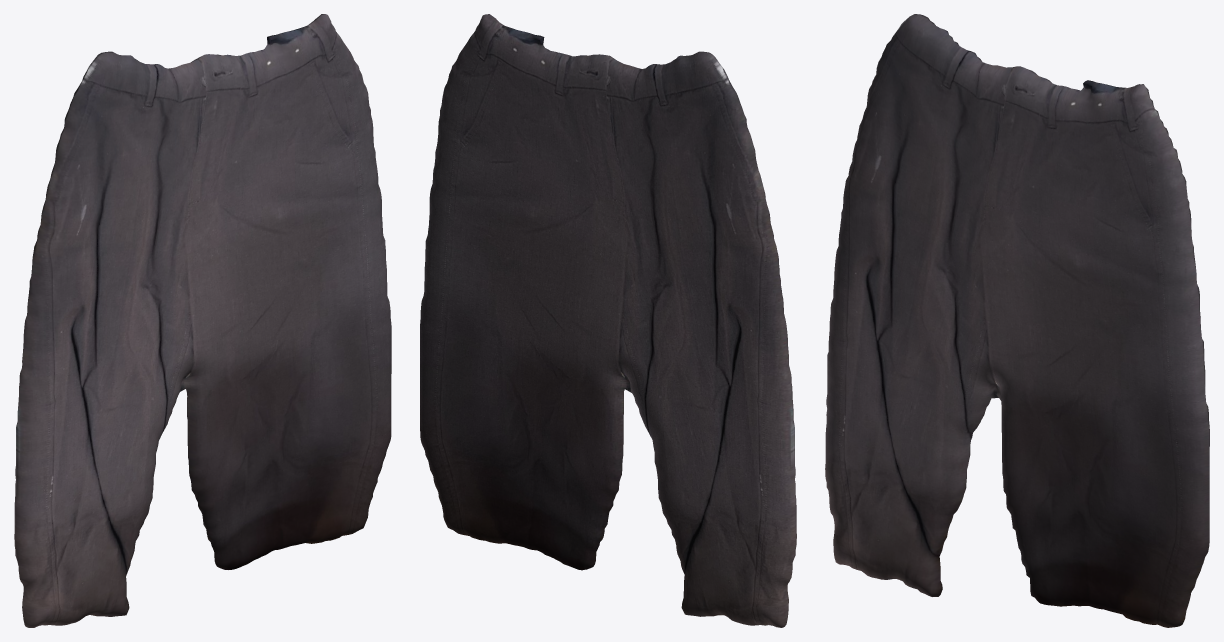
File: brown-trousers.glb
3 renders of one model, left to right at view 1: azimuth 30°, elevation 25°; view 2: azimuth 150°, elevation 25°; view 3: azimuth 330°, elevation 25°, orthographic. The views are drawn at different scales.
Parts seen in each view (by area): view 1: brown-trousers; view 2: brown-trousers; view 3: brown-trousers.
Part boxes in pixels (box(x1,y1,x2,y2)): brown-trousers: box(14, 14, 391, 627); brown-trousers: box(420, 14, 796, 627); brown-trousers: box(825, 14, 1209, 627).
Size of the model in its own units: 0.6868 by 0.9903 by 0.0572.
1 material, 1 textured.
